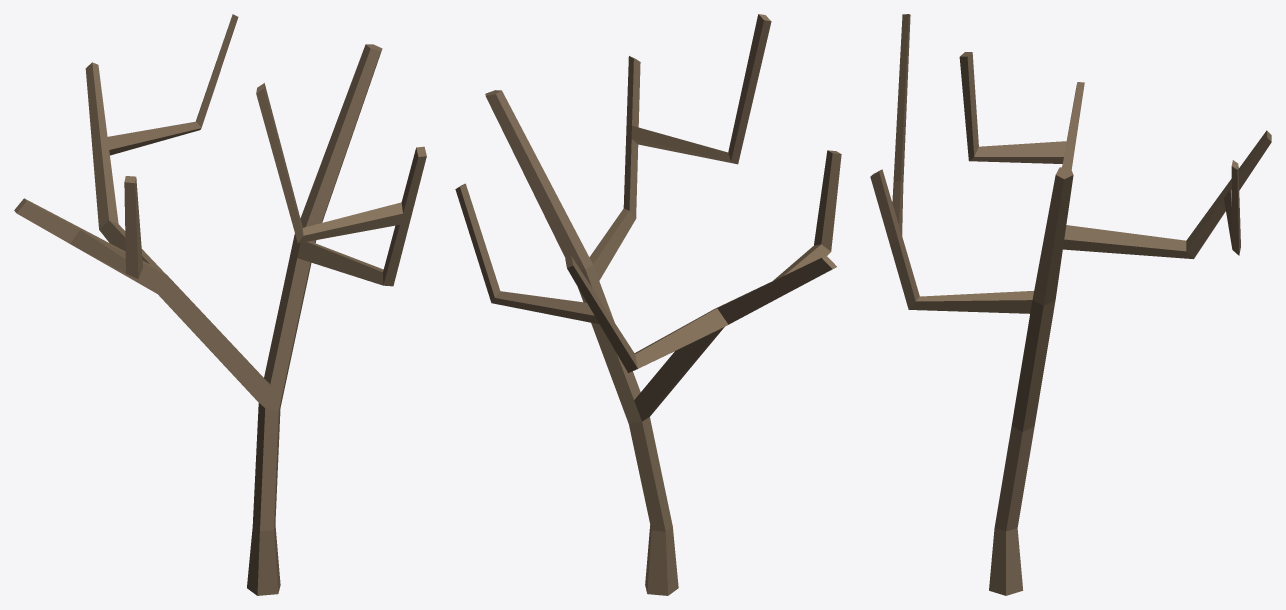
File: tree_bare_b_6.FBX
3 renders of one model, left to right at view 1: azimuth 30°, elevation 25°; view 2: azimuth 150°, elevation 25°; view 3: azimuth 270°, elevation 25°, orthographic.
Visible parts, largest first — view 1: tree_bare_b_6; view 2: tree_bare_b_6; view 3: tree_bare_b_6.
Boxes of the visible parts, <box> form: tree_bare_b_6: <box>14,14,426,595</box>; tree_bare_b_6: <box>455,14,841,595</box>; tree_bare_b_6: <box>870,14,1271,595</box>.
Bounding box in the file's own units: 4.59 × 6.76 × 4.47.
